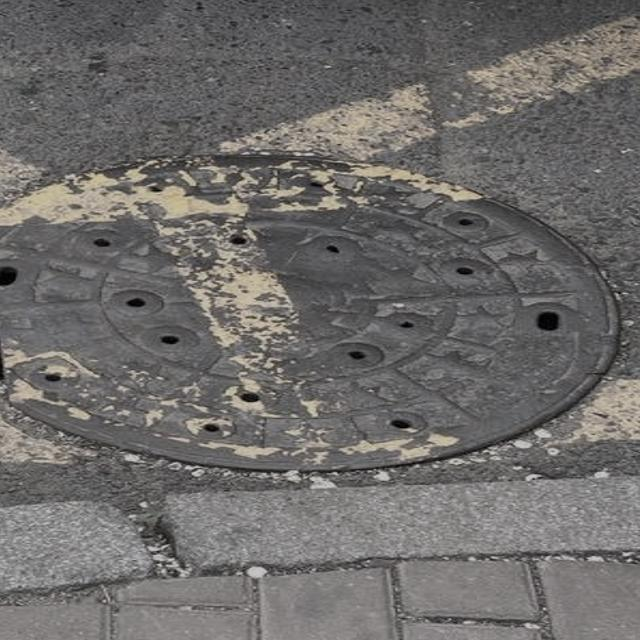broke: (0, 132, 635, 466)
